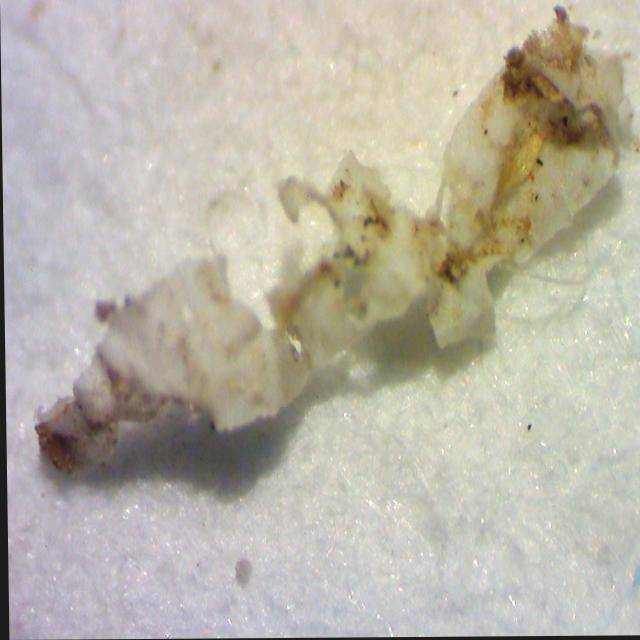microplastic: (32, 5, 627, 472)
